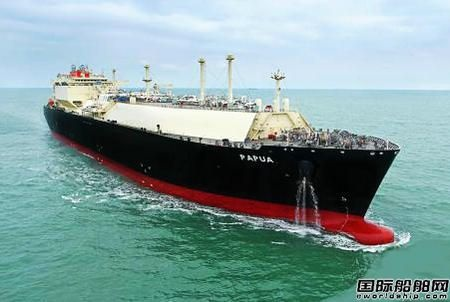Cargoship: (37, 58, 405, 251)
